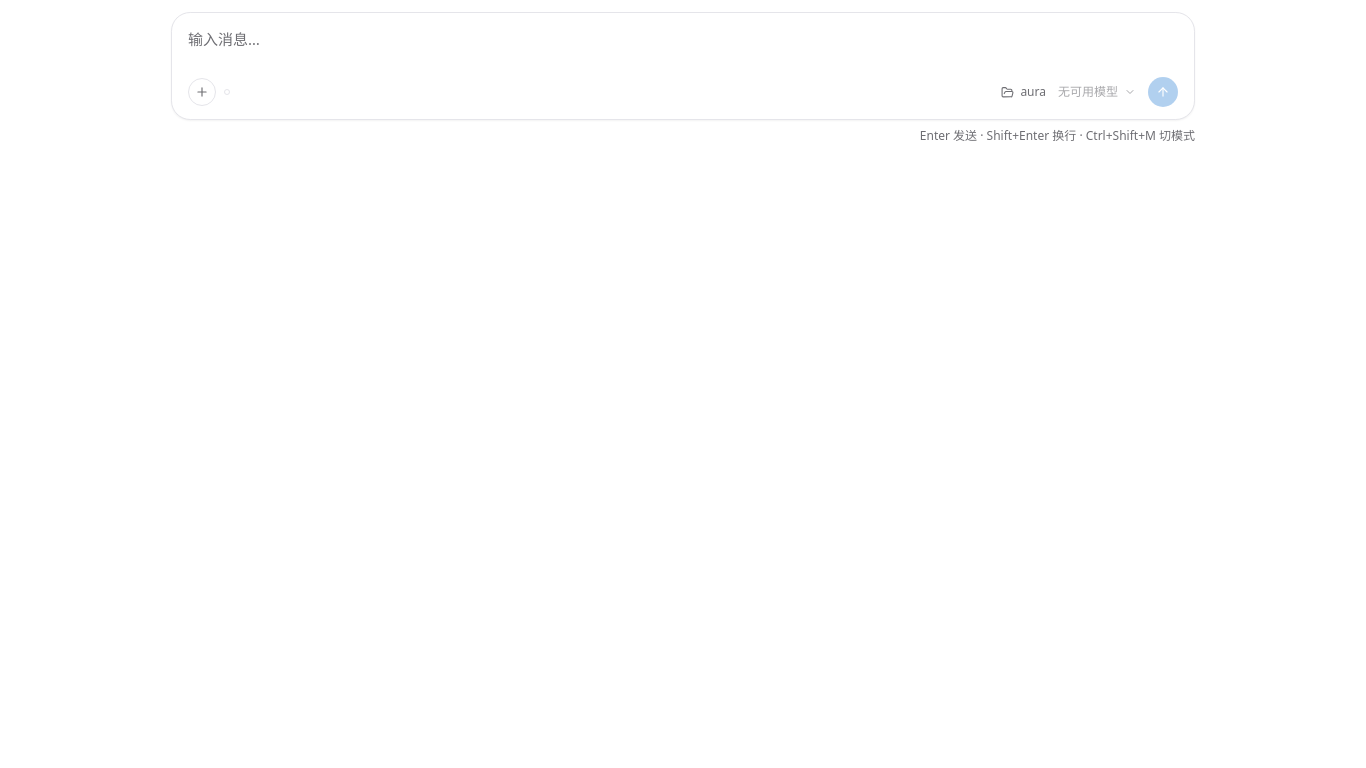
it: InputArea 的 MCP 提示词（M2-06） › 带必填参数的提示词先弹参数表单，不直接展开
In the text box: (683, 49) x1=188 y1=25 x2=1178 y2=73, type "/"
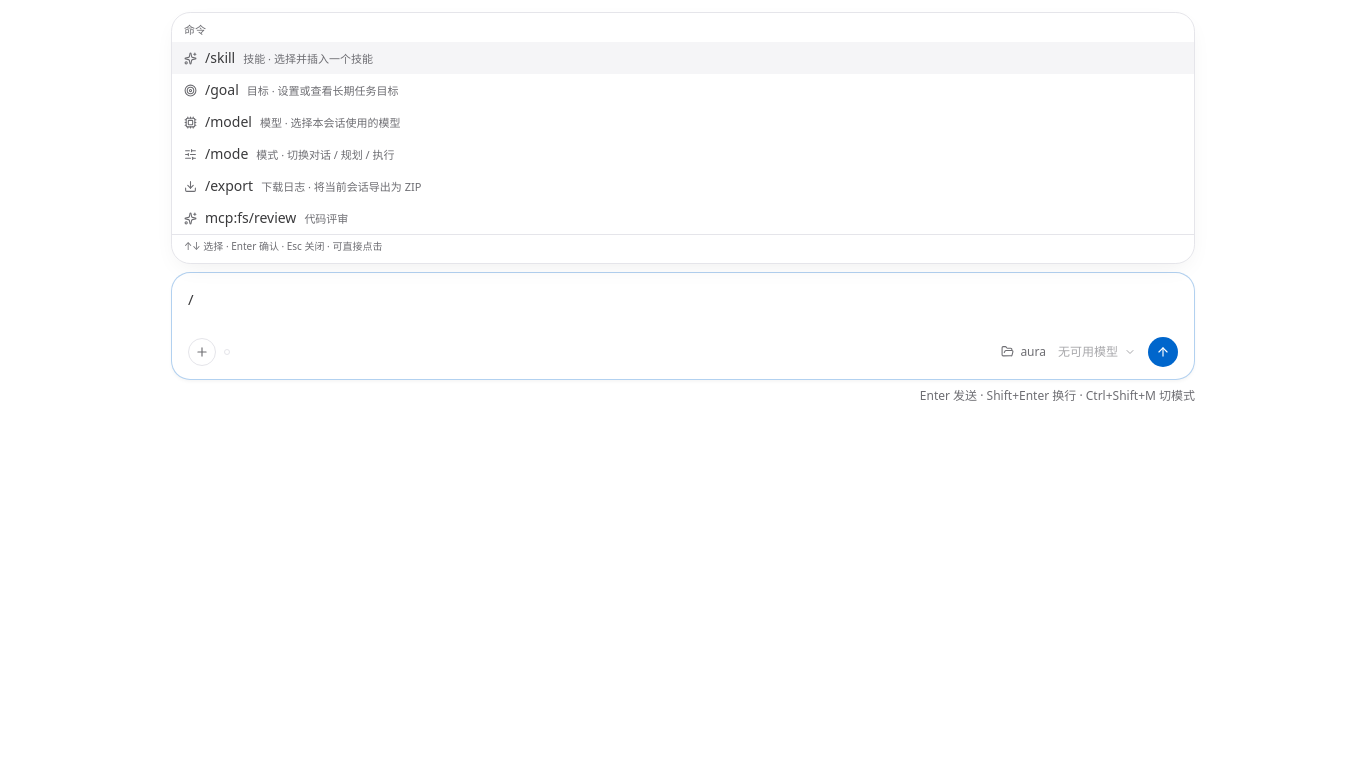
Click the text "mcp:fs/review": (251, 218) x1=205 y1=208 x2=296 y2=228
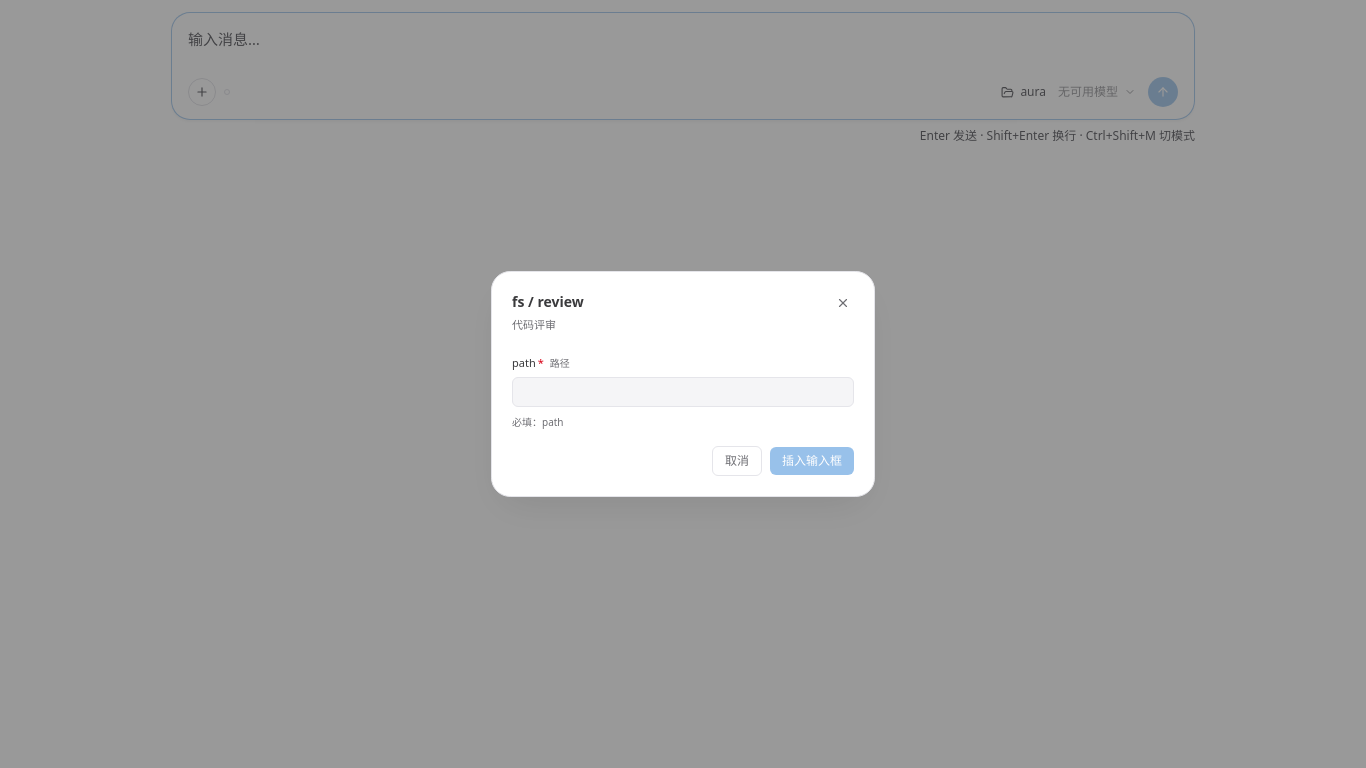
Result: the element with test id "mcp-prompt-dialog" is shown
